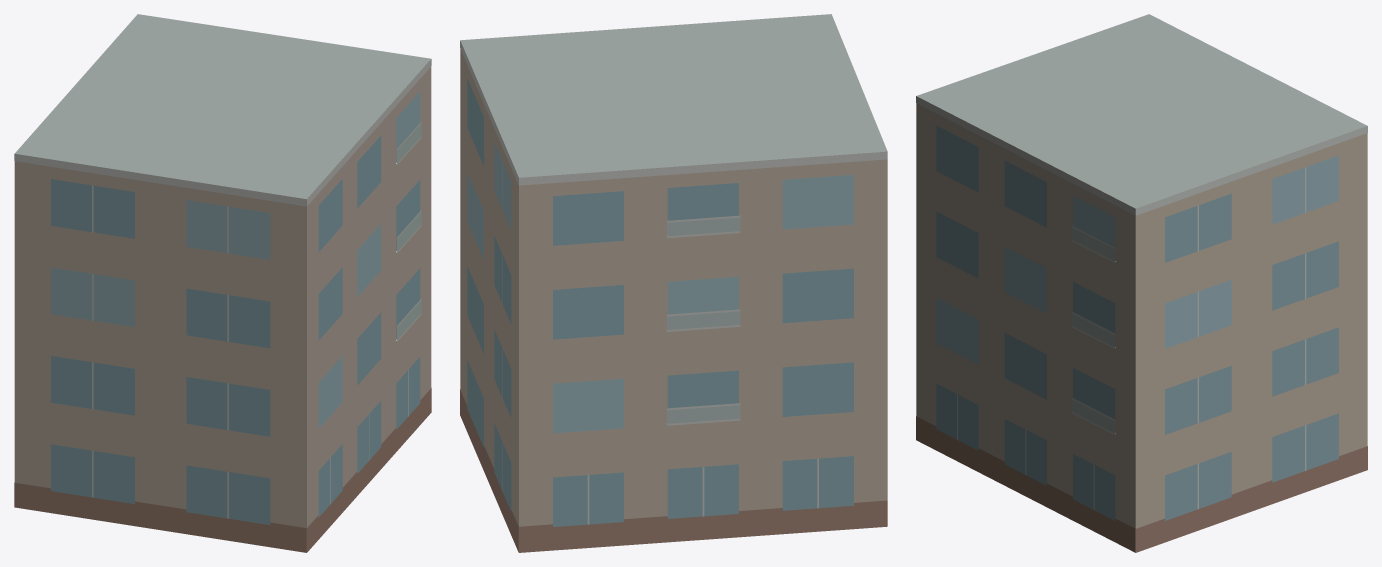
Rendered from survey-upis-32735360.glb.
3 views of the same model, side by side, from view 1: azimuth 30°, elevation 25°; view 2: azimuth 150°, elevation 25°; view 3: azimuth 270°, elevation 25° (orthographic). The views are drawn at different scales.
Parts seen in each view (by area): view 1: survey-upis-32735360.tmp; view 2: survey-upis-32735360.tmp; view 3: survey-upis-32735360.tmp.
Part boxes in pixels (x1,y1,x2,y2): survey-upis-32735360.tmp: [14, 14, 431, 552]; survey-upis-32735360.tmp: [460, 14, 887, 552]; survey-upis-32735360.tmp: [916, 14, 1367, 552].
Bounding box in the file's own units: 14.33 × 11.8 × 14.04.
